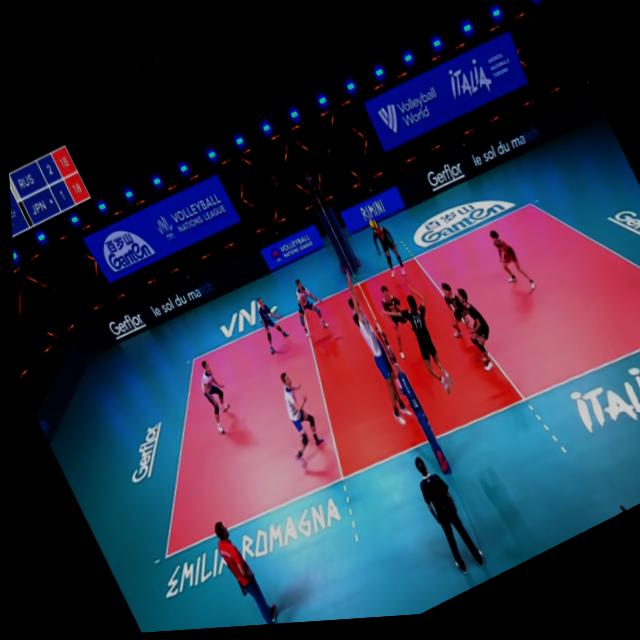player: (325, 267, 415, 432), (379, 291, 459, 402), (256, 372, 322, 467), (445, 290, 503, 383), (182, 357, 237, 441), (368, 283, 422, 362), (483, 229, 534, 305), (429, 280, 477, 354), (278, 274, 328, 340), (242, 292, 289, 358), (362, 219, 406, 286)
